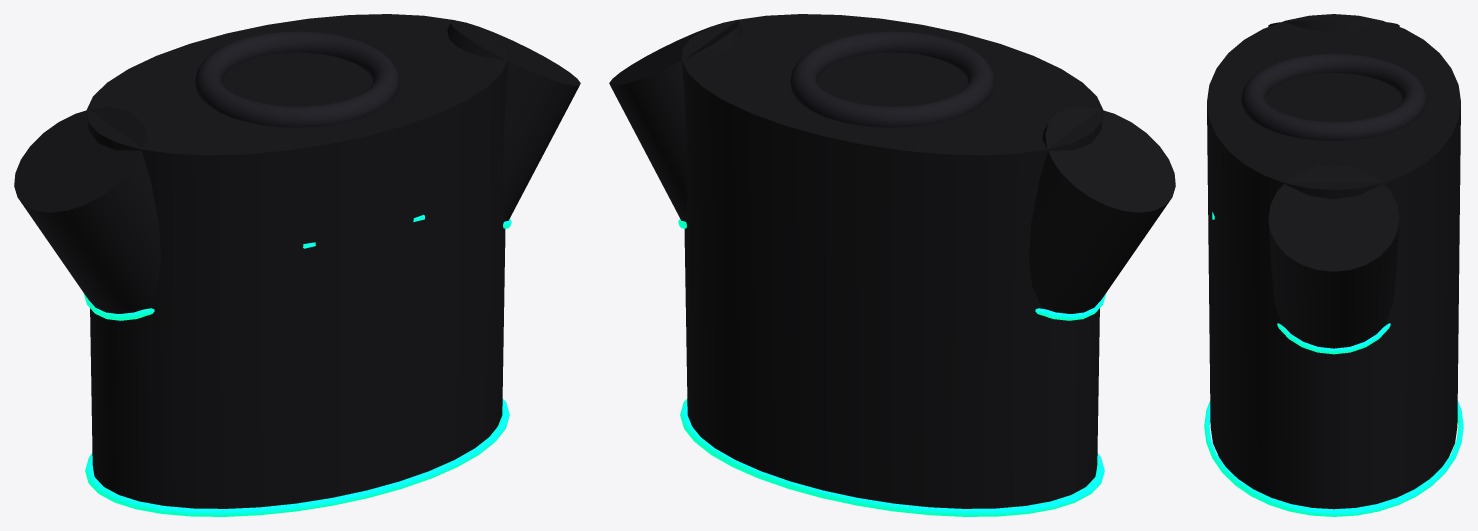
Rendered from tshirt.glb.
3 renders of one model, left to right at view 1: azimuth 30°, elevation 25°; view 2: azimuth 150°, elevation 25°; view 3: azimuth 270°, elevation 25°, orthographic. The views are drawn at different scales.
Visible parts, largest first — view 1: Kinetic_Tee_Model; view 2: Kinetic_Tee_Model; view 3: Kinetic_Tee_Model.
Boxes of the visible parts, x1,y1,x2,y2 form: Kinetic_Tee_Model: (14,14,580,516); Kinetic_Tee_Model: (609,14,1175,516); Kinetic_Tee_Model: (1204,14,1463,516).
Size of the model in its own units: 3.21 by 2.12 by 1.46.
